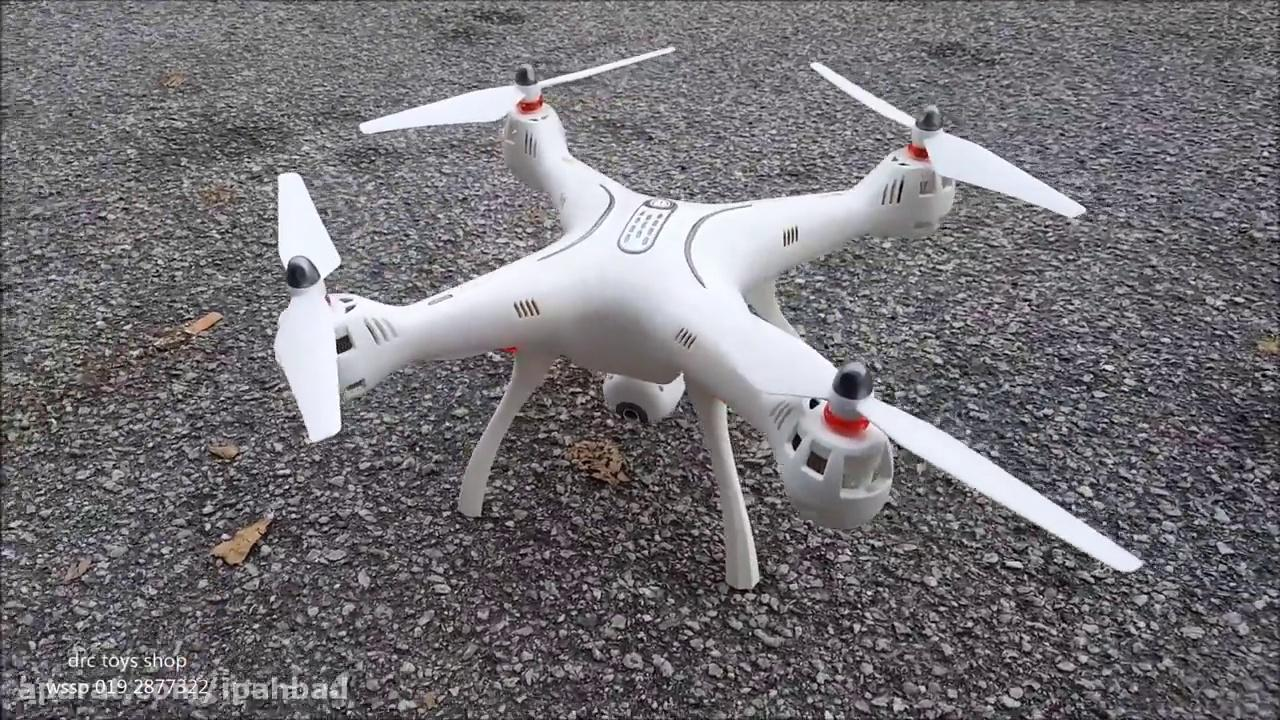drone: (257, 35, 1154, 597)
